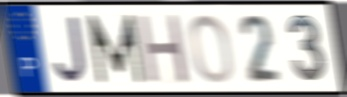2: (238, 13, 283, 85)
3: (286, 12, 328, 86)
H: (135, 12, 192, 87)
J: (52, 15, 89, 85)
M: (85, 12, 147, 86)
O: (187, 12, 236, 86)
